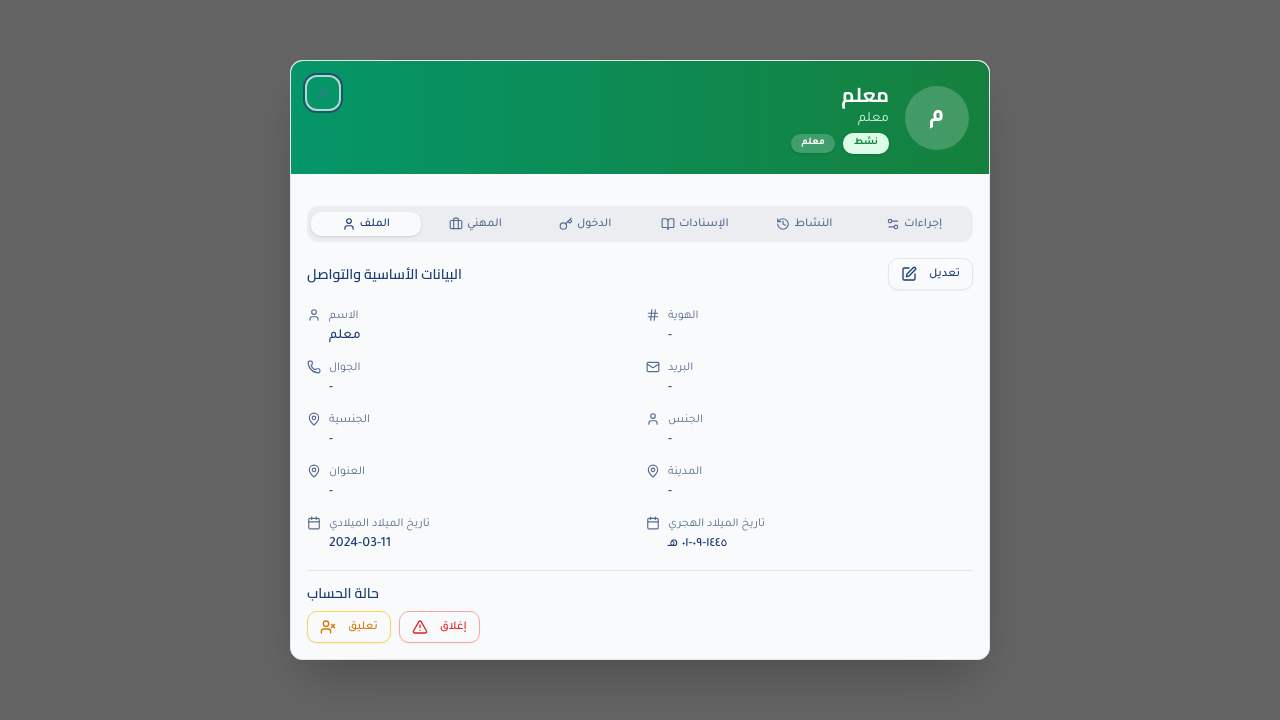
Test: TeacherProfileDialog — Professional Data Rendering › clears a birth date as null and blocks a future value
Later steps or results of the test are not shown.
expect the text "2024-03-11" is shown: met, box [329,537,391,551]
Click the button "تعديل".
click(930, 274)  # box [888,258,973,290]
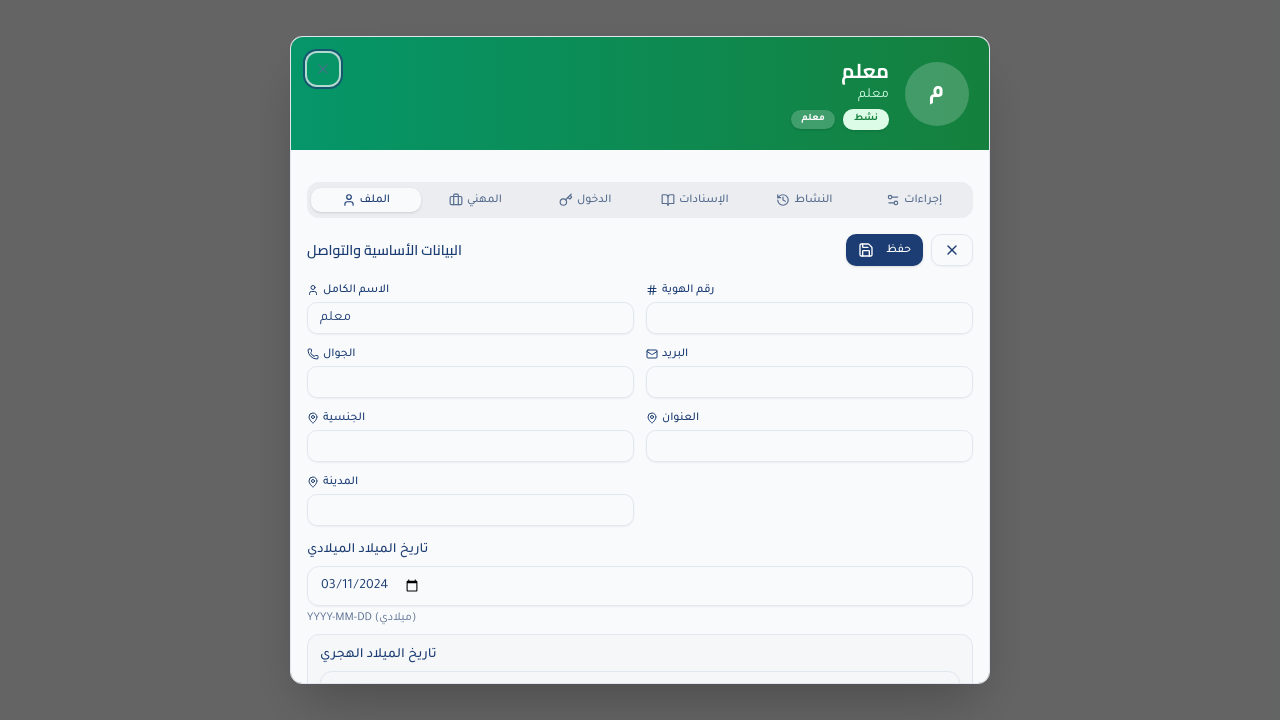
Type "2999-01-01" into the date field with test id "profile-teacher-dob".
click(640, 586); type("2999-01-01")  # box [307,566,973,606]
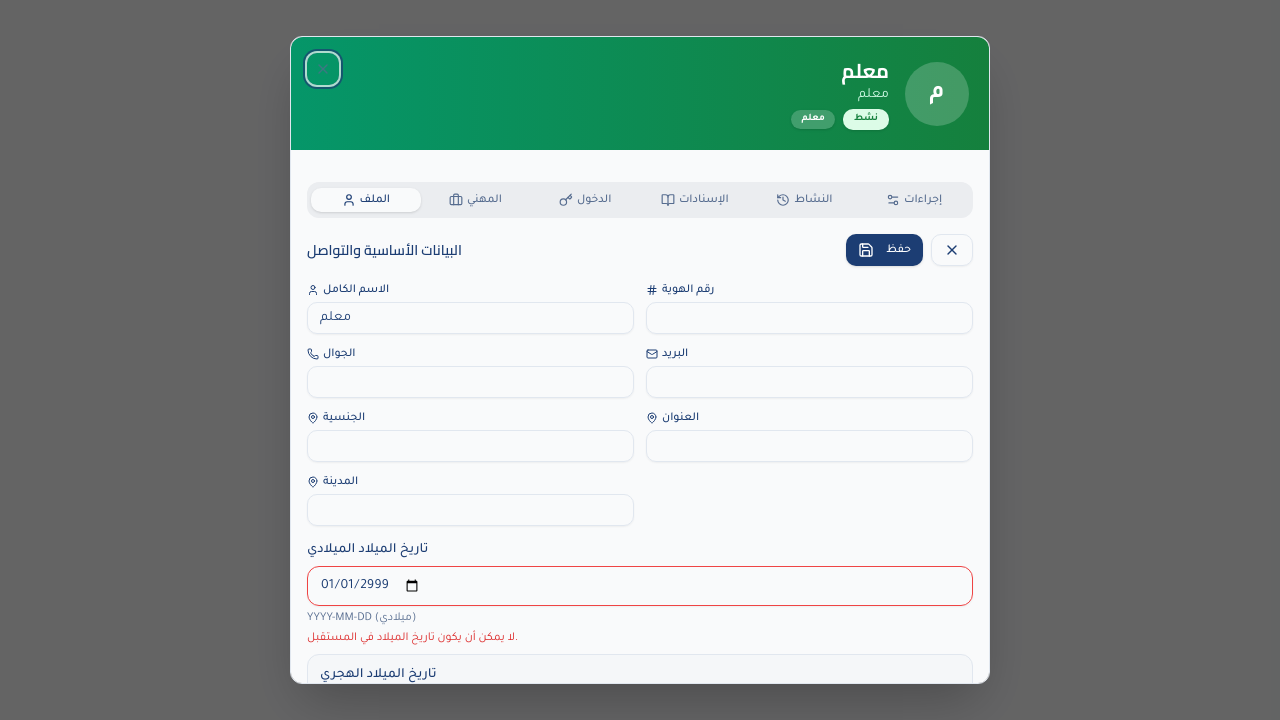
Click the button "حفظ".
click(885, 250)  # box [846,234,923,266]
expect the message reads "لا يمكن أن يكون تاريخ الميلاد في المستقبل.": met, box [307,632,518,644]
